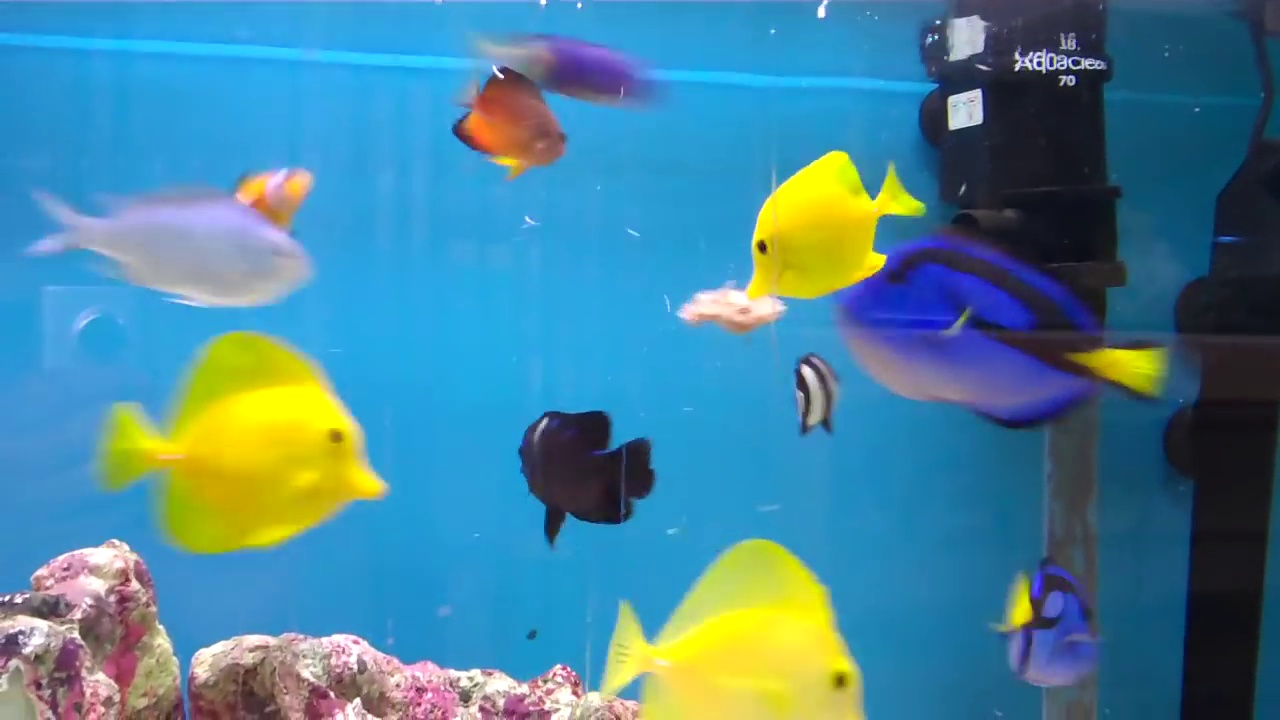blue tang surgeonfish: (841, 221, 1197, 443), (999, 539, 1117, 702)
saddle butterfly fish: (90, 313, 394, 554), (602, 521, 857, 720), (718, 136, 930, 301)
